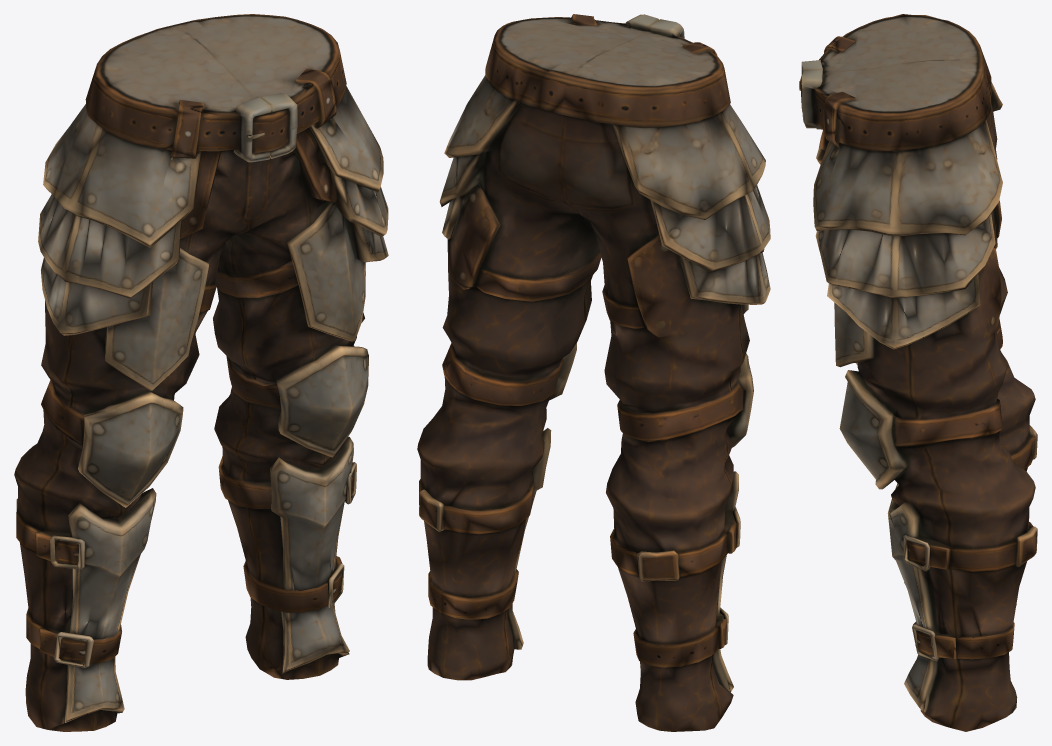
The model's file is meshy.glb.
3 renders of one model, left to right at view 1: azimuth 30°, elevation 25°; view 2: azimuth 150°, elevation 25°; view 3: azimuth 270°, elevation 25°, orthographic. The views are drawn at different scales.
Visible parts, largest first — view 1: geometry_0; view 2: geometry_0; view 3: geometry_0.
Boxes of the visible parts, bbox=[...] form: geometry_0: bbox=[14, 14, 388, 731]; geometry_0: bbox=[417, 14, 770, 731]; geometry_0: bbox=[799, 14, 1037, 731].
Size of the model in its own units: 0.4868 by 0.9517 by 0.3394.
Materials: 1 (1 with a texture image).
